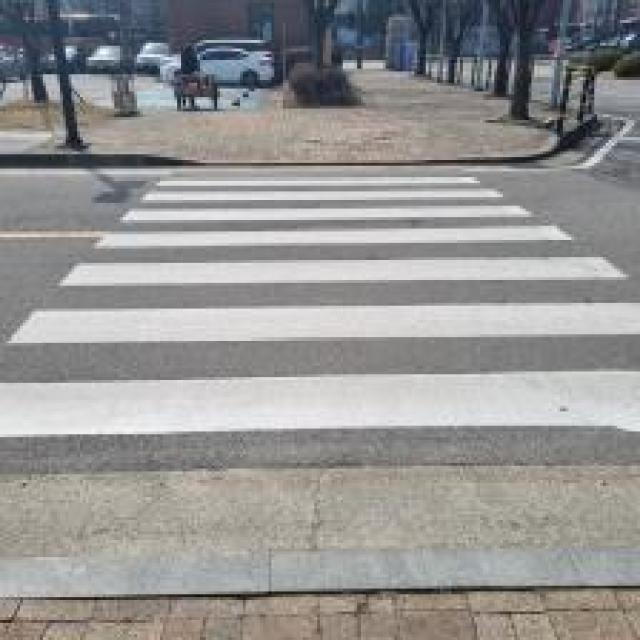walk-crossing: (134, 184, 563, 527)
